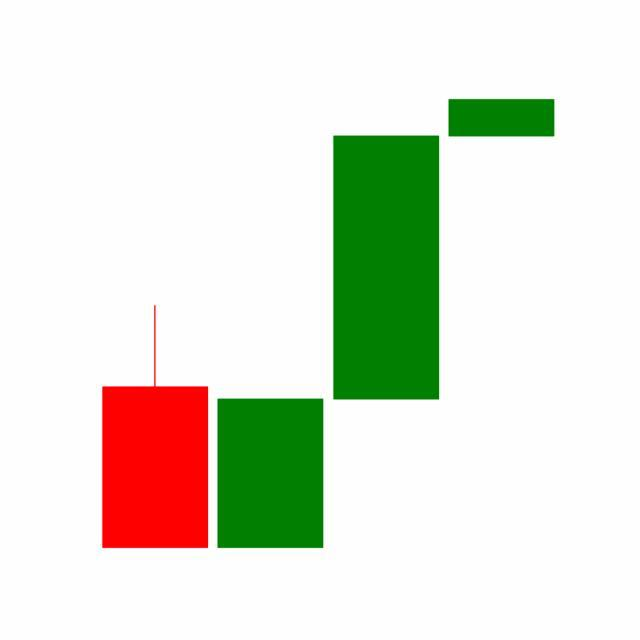Marubozu: (329, 132, 445, 403)
